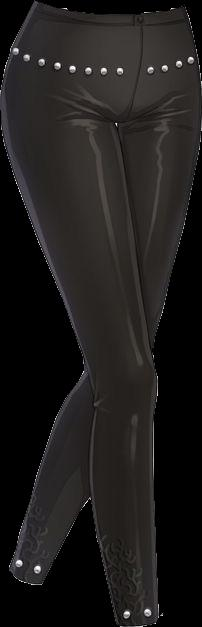Pantleg: (0, 1, 158, 626)
